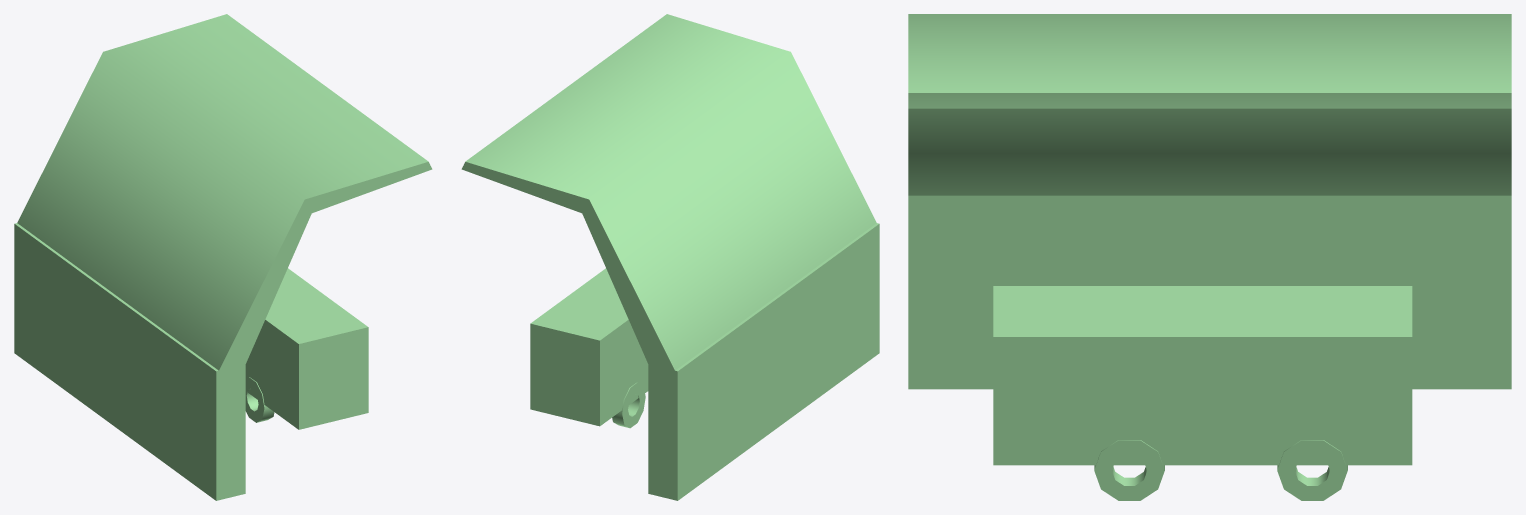
File: Depot_Point.gltf
3 renders of one model, left to right at view 1: azimuth 30°, elevation 25°; view 2: azimuth 150°, elevation 25°; view 3: azimuth 270°, elevation 25°, orthographic. The views are drawn at different scales.
Parts seen in each view (by area): view 1: Merged_Objects_1; view 2: Merged_Objects_1; view 3: Merged_Objects_1.
Part boxes in pixels (x1,y1,x2,y2): Merged_Objects_1: (14, 14, 432, 500); Merged_Objects_1: (461, 14, 879, 500); Merged_Objects_1: (908, 14, 1511, 500).
Size of the model in its own units: 146 by 185 by 235.
